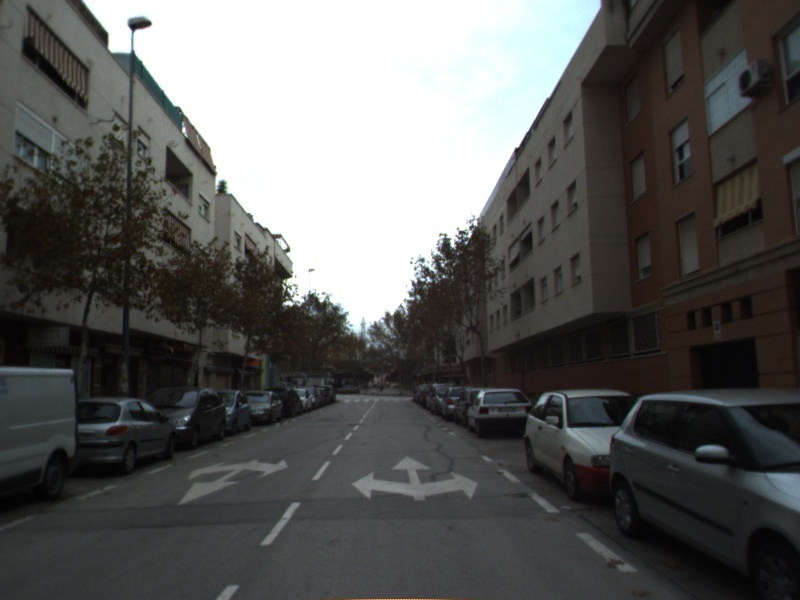STRAIGHT_LEFT_RIGHT: (350, 452, 481, 502)
